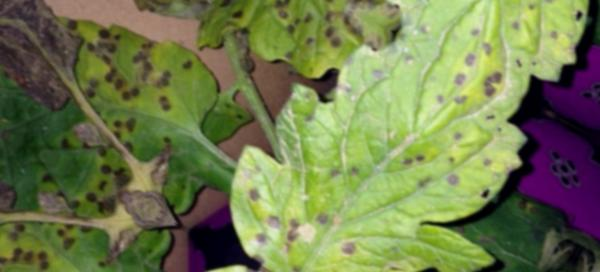Tomato Septoria leaf spot: (198, 0, 569, 272), (0, 0, 267, 233), (51, 0, 239, 55)
